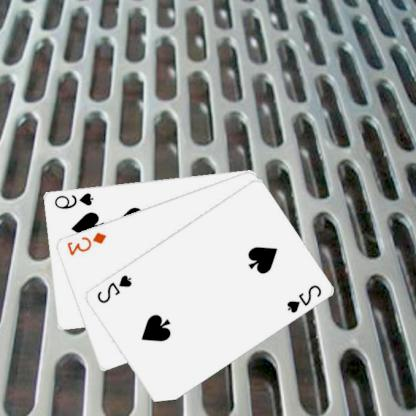2S: (95, 272, 135, 305), (285, 282, 325, 314)
3D: (66, 229, 110, 257)
9S: (53, 190, 96, 210)
